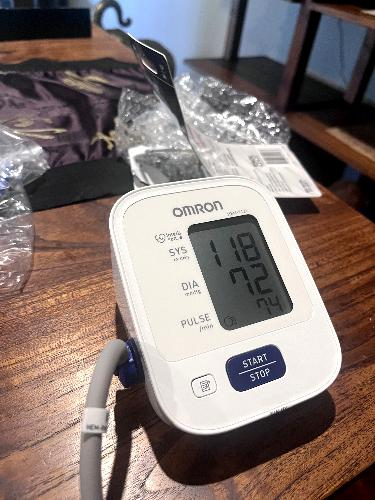bpm: (185, 201, 296, 334)
